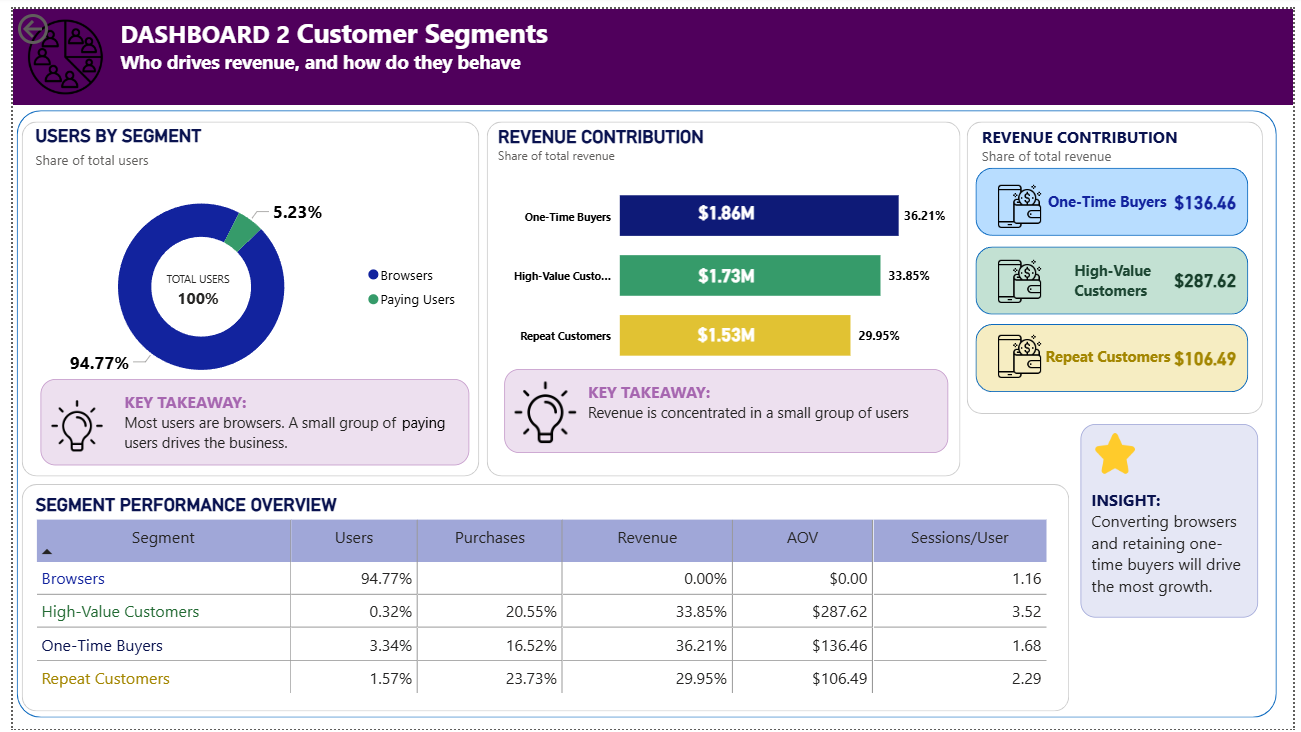

Layout of this report page (visuals, bound fields, positions):
{"tool":"powerbi","page":{"name":"Dashboard 2","canvas":[1280,720],"ordinal":1},"visuals":[{"type":"shape","box":[3.8,101.2,1260,607.5],"z":0},{"type":"shape","box":[8.8,475,1047.5,227.5],"z":1000},{"type":"shape","box":[953.8,112.5,296.2,292.5],"z":2000},{"type":"shape","box":[473.8,112.5,473.8,355],"z":3000},{"type":"shape","box":[8.8,112.5,457.5,355],"z":4000},{"type":"textbox","box":[0,0,1280,96],"z":5000},{"type":"image","box":[8.6,9.8,87.4,76.3],"z":6000},{"type":"donutChart","title":"USERS BY SEGMENT","fields":{"Category":["dim_customer.SEGMENT_GROUP"],"Y":["CountNonNull(dim_customer.USER_ID)"]},"box":[17.5,116.2,438.8,278.8],"z":7000},{"type":"textbox","box":[132.5,255,105,61.2],"z":8000},{"type":"textbox","box":[27.5,370,428.8,86.2],"z":9000},{"type":"image","box":[31.2,391.2,65,51.2],"z":10000},{"type":"clusteredBarChart","title":"REVENUE CONTRIBUTION","fields":{"Category":["dim_customer.CUSTOMER_SEGMENT"],"Y":["dim_customer.Revenue Share %"]},"box":[480,117.5,457.5,261.2],"z":11000},{"type":"textbox","box":[491.2,360,443.8,83.8],"z":12000},{"type":"image","box":[500,372.5,65,61.2],"z":13000},{"type":"actionButton","box":[0,0,100,40],"z":14000},{"type":"card","fields":{"Values":["dim_customer.Total Revenue"]},"box":[617.5,177.5,192.5,52.5],"z":15000},{"type":"card","fields":{"Values":["dim_customer.Total Revenue"]},"box":[617.5,250,192.5,35],"z":16000},{"type":"card","fields":{"Values":["dim_customer.Total Revenue"]},"box":[617.7,308.9,192,34.8],"z":17000},{"type":"shape","box":[962.8,158.6,272.7,68.2],"z":18000},{"type":"shape","box":[962.8,237.9,272.7,68.2],"z":19000},{"type":"shape","box":[962.8,314.4,272.7,68.2],"z":20000},{"type":"image","box":[973.9,175.3,65.4,44.5],"z":21000},{"type":"image","box":[973.9,250.4,65.4,44.5],"z":22000},{"type":"image","box":[973.9,325.6,65.4,44.5],"z":23000},{"type":"card","fields":{"Values":["Avg(dim_customer.AVG_ORDER_VALUE)"]},"box":[1150.6,168.3,84.9,50.1],"z":24000},{"type":"card","fields":{"Values":["Avg(dim_customer.AVG_ORDER_VALUE)"]},"box":[1150.6,247.7,84.9,50.1],"z":25000},{"type":"card","fields":{"Values":["Avg(dim_customer.AVG_ORDER_VALUE)"]},"box":[1150.6,325.6,84.9,50.1],"z":26000},{"type":"textbox","box":[1029.6,178.1,140.5,37.6],"z":27000},{"type":"textbox","box":[1056,246,95,58],"z":28000},{"type":"textbox","box":[1028,333,140,38],"z":29000},{"type":"tableEx","title":"SEGMENT PERFORMANCE OVERVIEW","fields":{"Values":["dim_customer.CUSTOMER_SEGMENT","dim_customer.User Share %","dim_customer.Purchases %","dim_customer.Revenue Share %","Avg(dim_customer.AVG_ORDER_VALUE)","dim_customer.Sessions per User"]},"box":[17.5,485,1021.2,205],"z":30000},{"type":"textbox","box":[963.8,111.2,281.2,57.5],"z":31000},{"type":"textbox","box":[1067.5,415,177.5,193.8],"z":32000},{"type":"image","box":[1068.8,421.2,66.2,46.2],"z":33000}]}

Visuals, with their boxes in screenshot pixels (x1, y1, x2, y2), scaled from the page's 1280x720 canvas onto the 1301x732 screenshot:
shape: select_region(4, 103, 1285, 721)
shape: select_region(9, 483, 1074, 714)
shape: select_region(969, 114, 1271, 412)
shape: select_region(482, 114, 963, 475)
shape: select_region(9, 114, 474, 475)
textbox: select_region(0, 0, 1300, 98)
image: select_region(9, 10, 98, 88)
"USERS BY SEGMENT" donutChart: select_region(18, 118, 464, 402)
textbox: select_region(135, 259, 241, 321)
textbox: select_region(28, 376, 464, 464)
image: select_region(32, 398, 98, 450)
"REVENUE CONTRIBUTION" clusteredBarChart: select_region(488, 119, 953, 385)
textbox: select_region(499, 366, 950, 451)
image: select_region(508, 379, 574, 441)
actionButton: select_region(0, 0, 102, 41)
card - dim_customer.Total Revenue: select_region(628, 180, 823, 234)
card - dim_customer.Total Revenue: select_region(628, 254, 823, 290)
card - dim_customer.Total Revenue: select_region(628, 314, 823, 349)
shape: select_region(979, 161, 1256, 231)
shape: select_region(979, 242, 1256, 311)
shape: select_region(979, 320, 1256, 389)
image: select_region(990, 178, 1056, 223)
image: select_region(990, 255, 1056, 300)
image: select_region(990, 331, 1056, 376)
card - Avg(dim_customer.AVG_ORDER_VALUE): select_region(1169, 171, 1256, 222)
card - Avg(dim_customer.AVG_ORDER_VALUE): select_region(1169, 252, 1256, 303)
card - Avg(dim_customer.AVG_ORDER_VALUE): select_region(1169, 331, 1256, 382)
textbox: select_region(1046, 181, 1189, 219)
textbox: select_region(1073, 250, 1170, 309)
textbox: select_region(1045, 339, 1187, 377)
"SEGMENT PERFORMANCE OVERVIEW" tableEx: select_region(18, 493, 1056, 702)
textbox: select_region(980, 113, 1265, 172)
textbox: select_region(1085, 422, 1265, 619)
image: select_region(1086, 428, 1154, 475)
